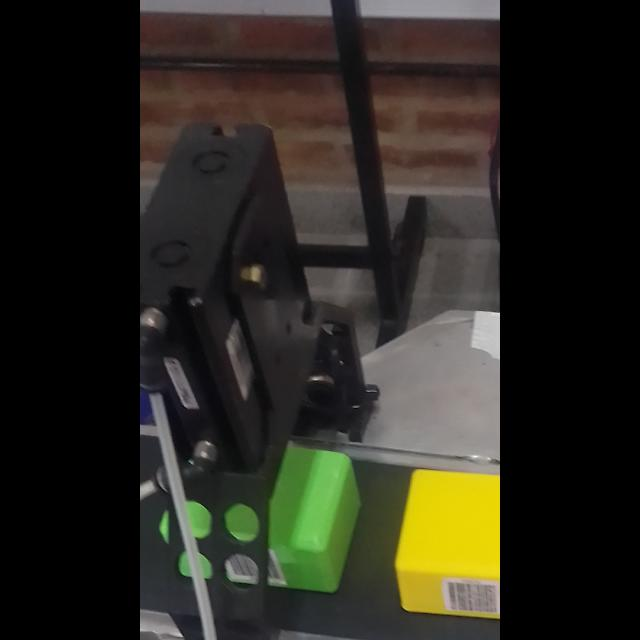yellowBox: (386, 456, 500, 628)
